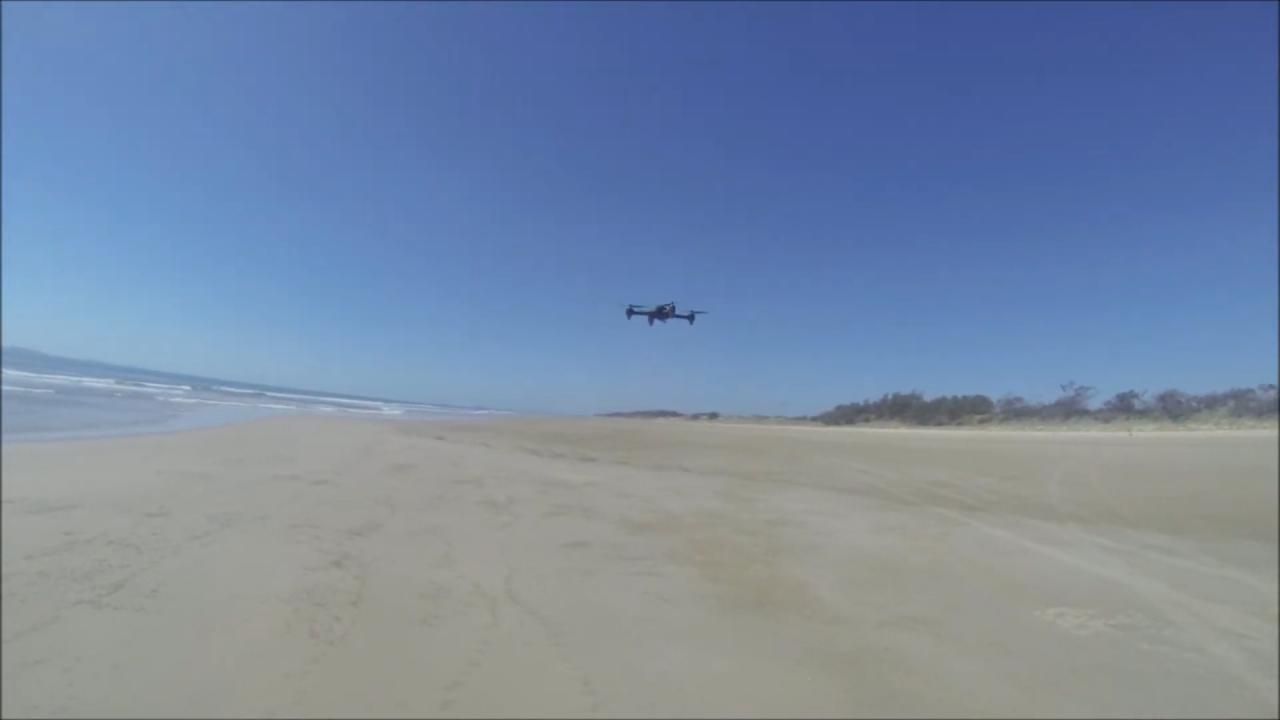Drone: (614, 288, 717, 340)
